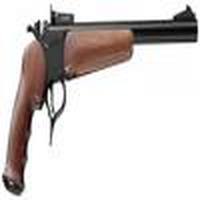gun: (5, 9, 194, 196)
